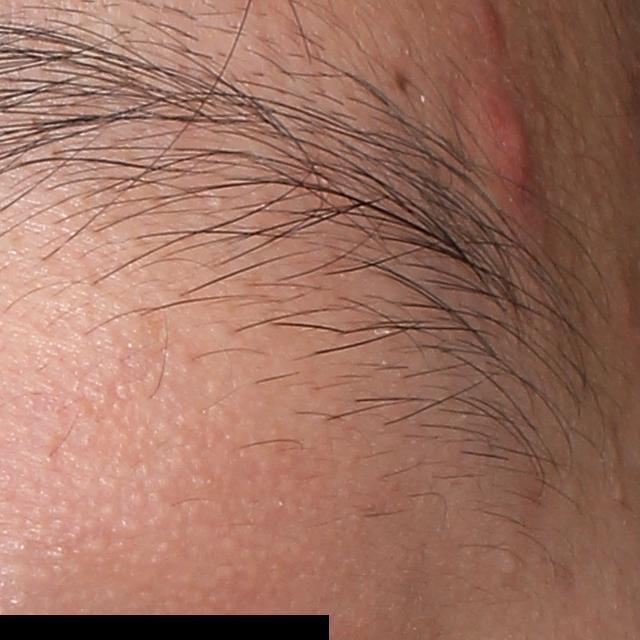nevus: (395, 70, 409, 93)
papule: (478, 86, 532, 216)
